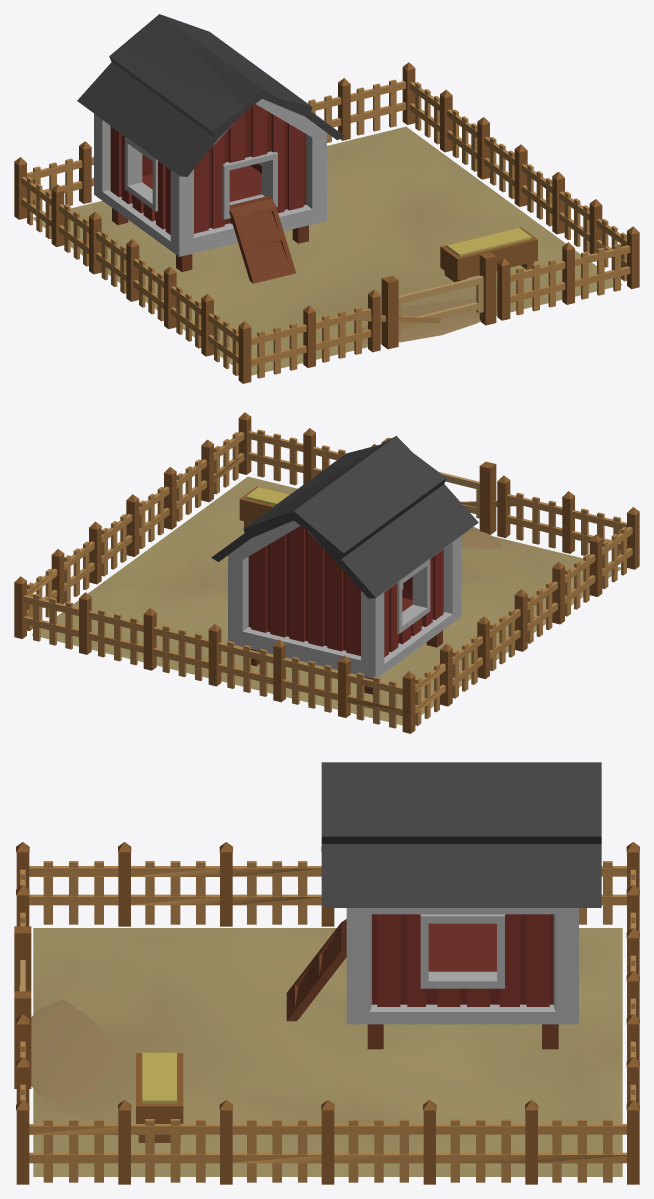
File: coop.glb
The picture shows the model from 3 angles, top to bottom: view 1: azimuth 30°, elevation 25°; view 2: azimuth 150°, elevation 25°; view 3: azimuth 270°, elevation 25°; orthographic projection. The views are drawn at different scales.
Parts seen in each view (by area): view 1: home-coop-far, home-coop; view 2: home-coop-far, home-coop; view 3: home-coop-far, home-coop.
Boxes of the visible parts, bbox=[...] form: home-coop-far: bbox=[18, 14, 639, 383]; home-coop: bbox=[14, 32, 632, 383]; home-coop-far: bbox=[14, 412, 635, 733]; home-coop: bbox=[14, 412, 639, 733]; home-coop-far: bbox=[14, 762, 639, 1176]; home-coop: bbox=[14, 791, 639, 1184].
Size of the model in its own units: 5.93 by 2.58 by 5.95.
